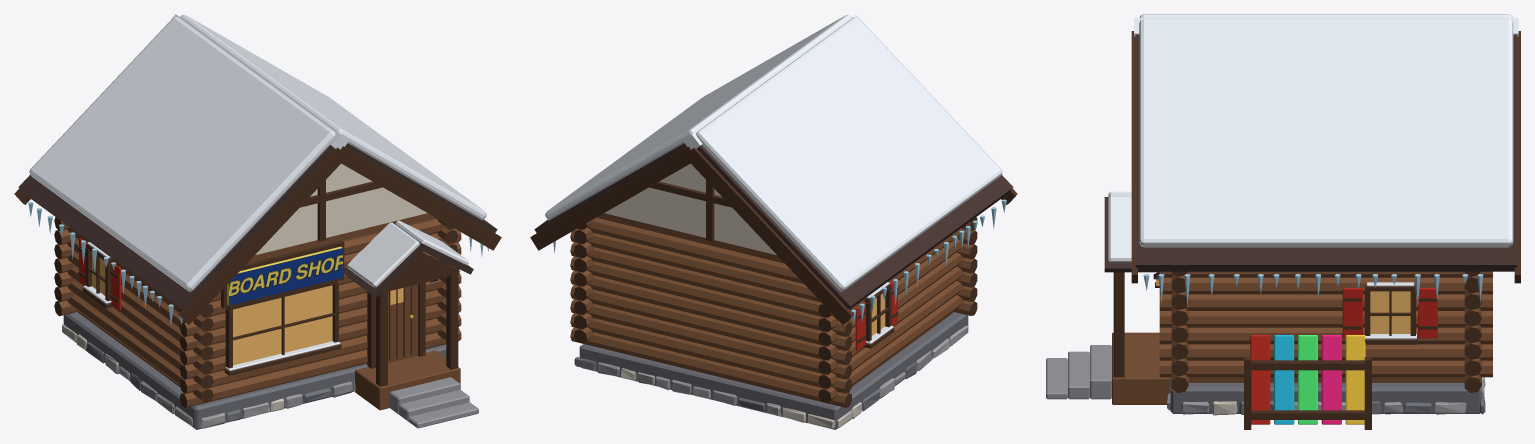
File: board_shop.obj
3 renders of one model, left to right at view 1: azimuth 30°, elevation 25°; view 2: azimuth 150°, elevation 25°; view 3: azimuth 270°, elevation 25°, orthographic. The views are drawn at different scales.
Visible parts, largest first — view 1: board_shop_Structure, board_shop_Windows, board_shop_Sign, board_shop_Icicles; view 2: board_shop_Structure, board_shop_Icicles; view 3: board_shop_Structure, board_shop_Windows, board_shop_Icicles.
Boxes of the visible parts, x1,y1,x2,y2 form: board_shop_Structure: (14, 14, 501, 429); board_shop_Windows: (92, 252, 403, 365); board_shop_Sign: (227, 246, 342, 305); board_shop_Icicles: (28, 201, 488, 325); board_shop_Structure: (530, 14, 1017, 429); board_shop_Icicles: (553, 199, 1006, 324); board_shop_Structure: (1046, 14, 1520, 429); board_shop_Windows: (1156, 279, 1410, 333); board_shop_Icicles: (1143, 274, 1483, 307).
Size of the model in its own units: 23.65 by 19.58 by 25.92.
Materials: 2 (2 with a texture image).
